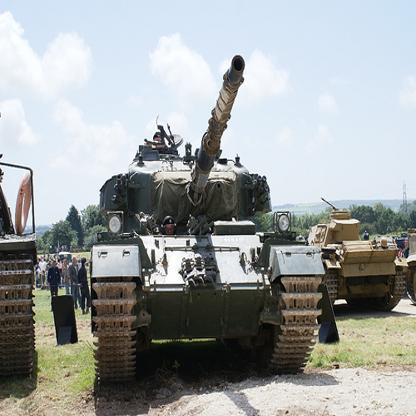Tank: (88, 55, 327, 399)
